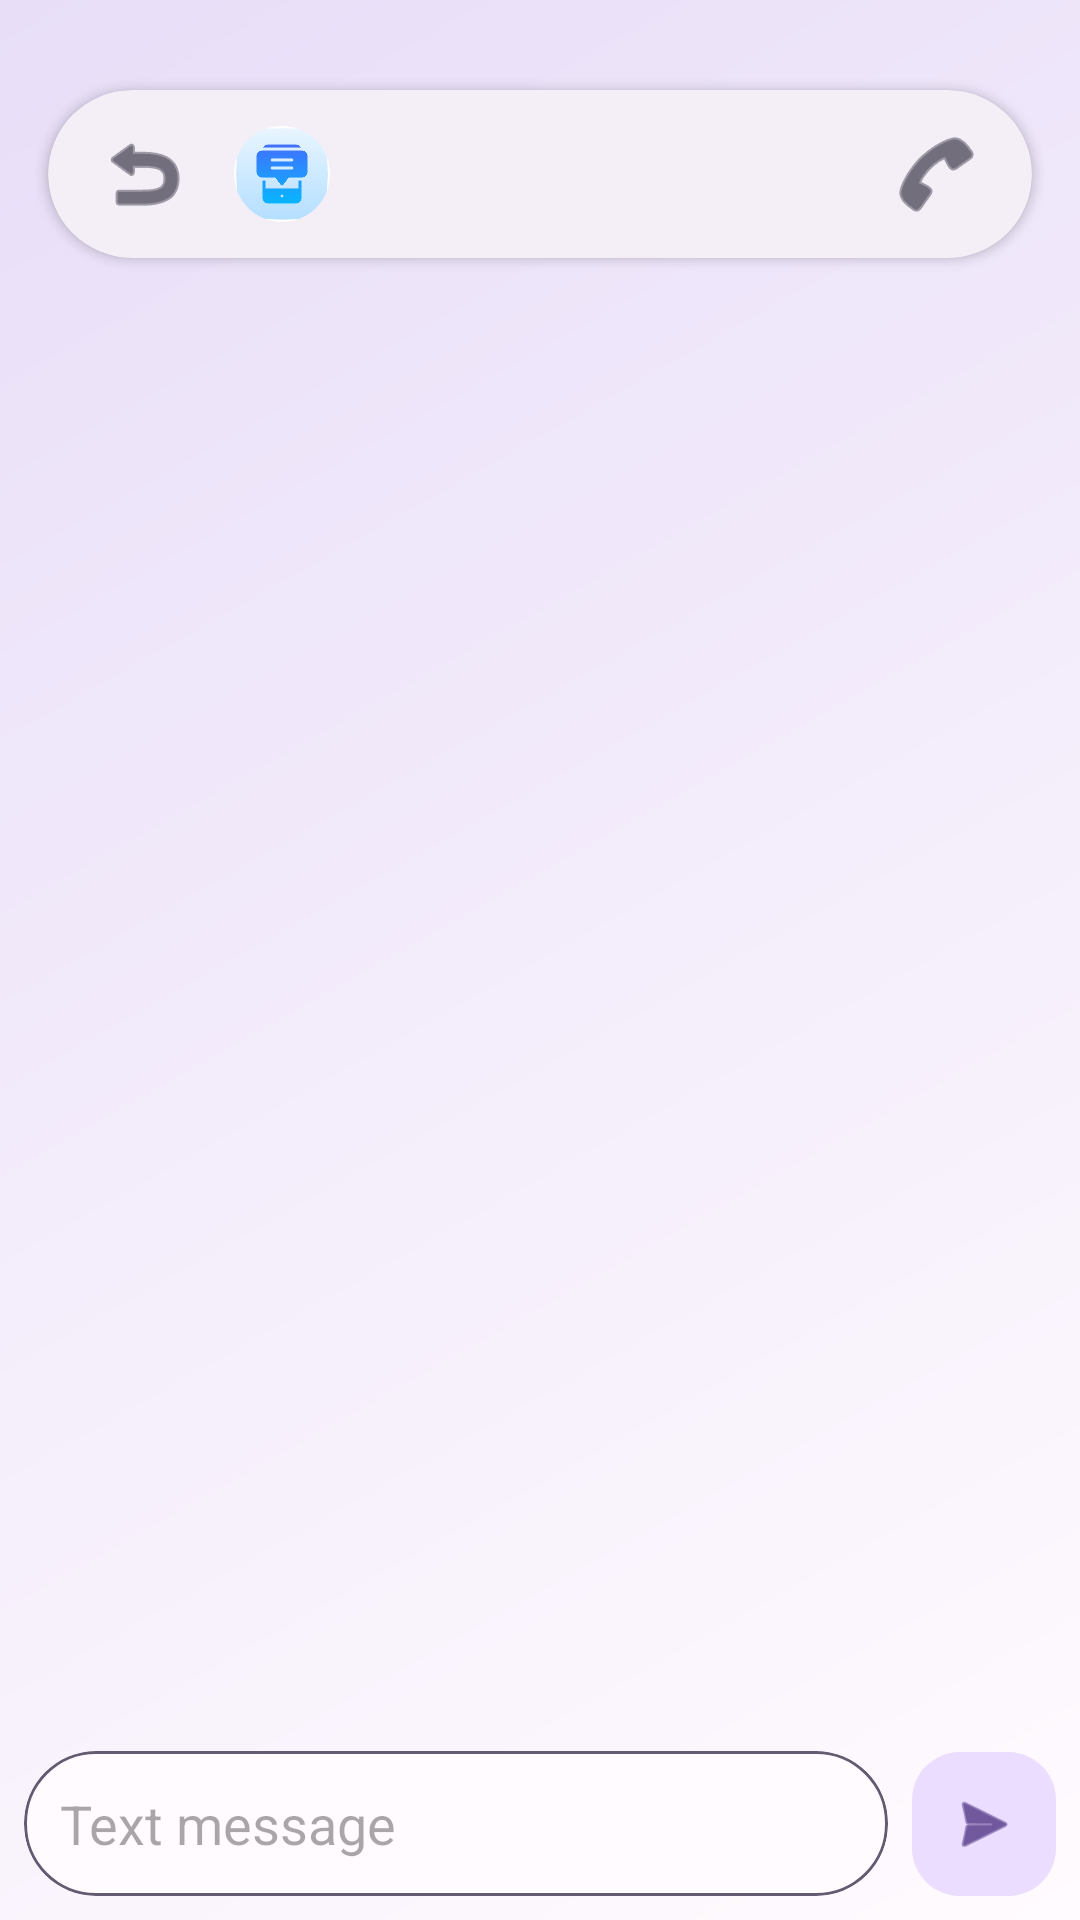

Locate icon controls on the screen. Image size 1080px x 1920px, boxes as (x1, y1, x2, y2).
Back: (111, 143, 180, 206)
Call: (899, 137, 974, 212)
Send: (912, 1752, 1056, 1896)
